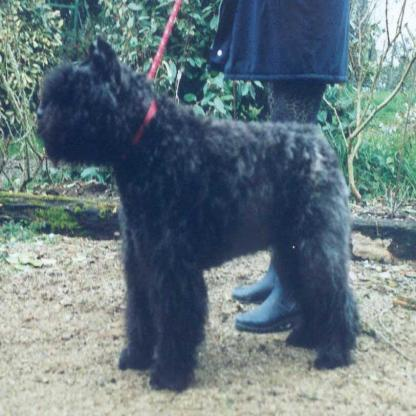Bouvier_des_Flandres: (34, 36, 358, 389)
